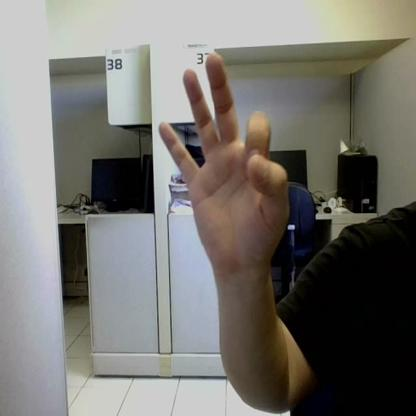F: (158, 53, 288, 255)
